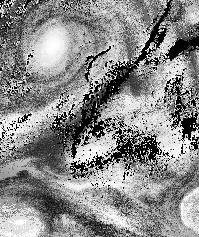CE: (15, 11, 91, 82)
